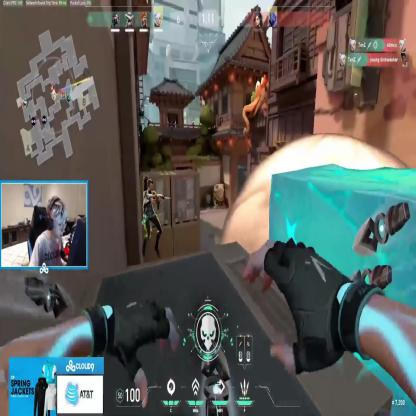enemy: (138, 175, 162, 261)
enemy_head: (146, 178, 154, 192)
